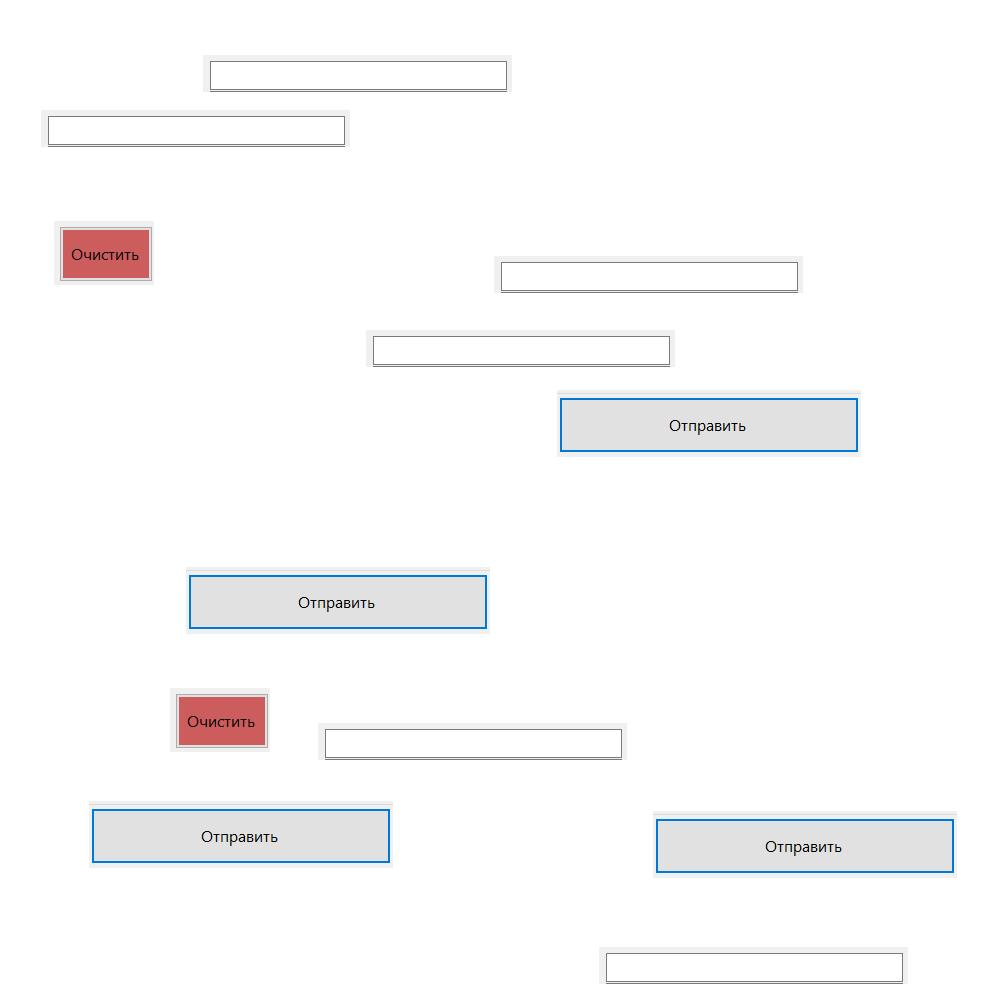Button: (89, 801, 393, 868), (557, 390, 861, 457), (653, 811, 957, 878), (186, 567, 490, 634), (54, 221, 154, 285), (170, 688, 270, 752)
EditText-: (366, 330, 675, 367), (318, 723, 627, 760), (599, 947, 908, 984), (203, 55, 512, 92), (494, 256, 803, 293), (41, 110, 350, 147)
